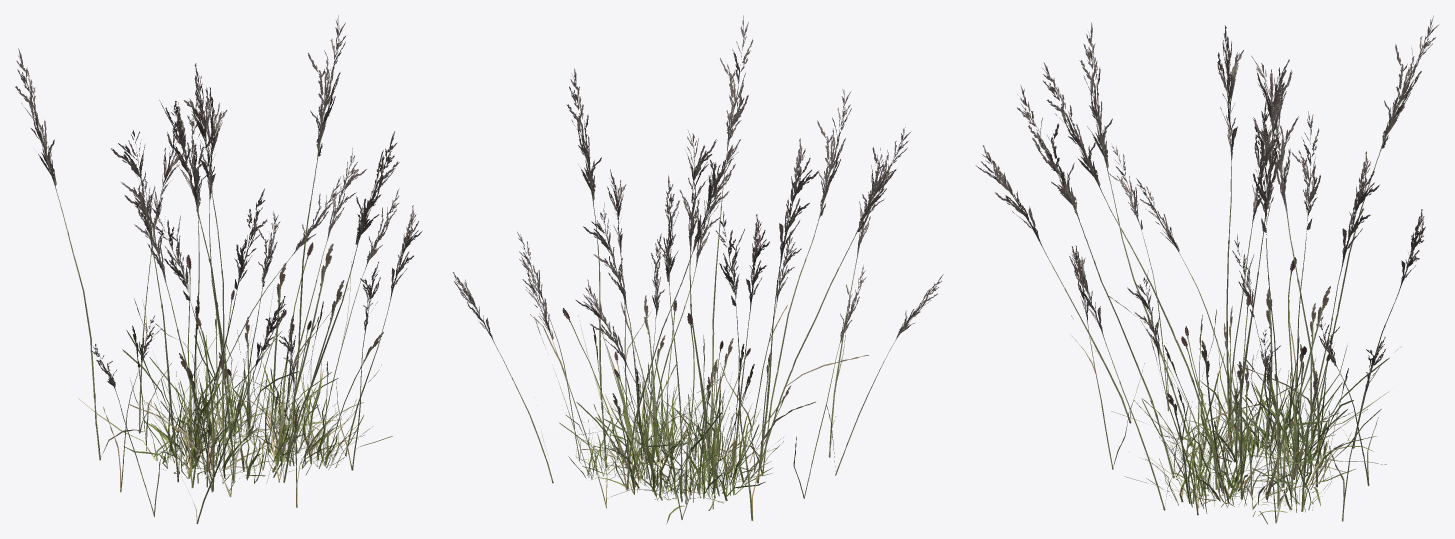
The model's file is tundra.glb.
3 views of the same model, side by side, from view 1: azimuth 30°, elevation 25°; view 2: azimuth 150°, elevation 25°; view 3: azimuth 270°, elevation 25° (orthographic). The views are drawn at different scales.
Visible parts, largest first — view 1: tundra_v2_lod0, tundra_v1_lod0, tundra_v0_lod0; view 2: tundra_v2_lod0, tundra_v1_lod0, tundra_v0_lod0; view 3: tundra_v2_lod0, tundra_v1_lod0, tundra_v0_lod0.
Part boxes in pixels (x1,y1,x2,y2): tundra_v2_lod0: [15, 15, 422, 524]; tundra_v1_lod0: [78, 63, 372, 497]; tundra_v0_lod0: [122, 242, 392, 487]; tundra_v2_lod0: [453, 15, 943, 520]; tundra_v1_lod0: [534, 129, 783, 510]; tundra_v0_lod0: [562, 300, 791, 524]; tundra_v2_lod0: [975, 15, 1439, 523]; tundra_v1_lod0: [1111, 59, 1389, 524]; tundra_v0_lod0: [1124, 257, 1389, 513].
Size of what is drawn, in the model's own units: 0.6694 by 0.6639 by 0.6532.
Materials: 1 (1 with a texture image).
